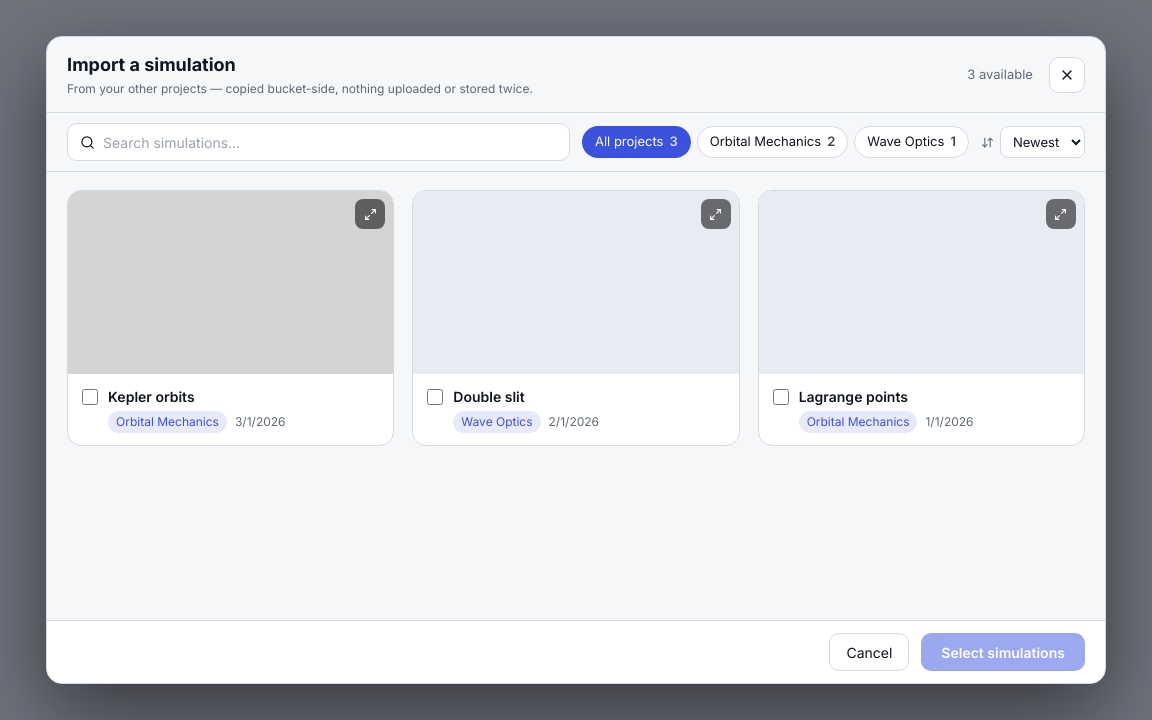
it: multi-select and import › a partial failure keeps the survivors selected, shows the error, and stays OPEN
Expected: the text "Kepler orbits" is shown, [108,388,195,405]
Step 1. Click the checkbox labelled "Kepler orbits Orbital Mechanics 3/1/2026" → x=90, y=397, box [82,389,98,405]
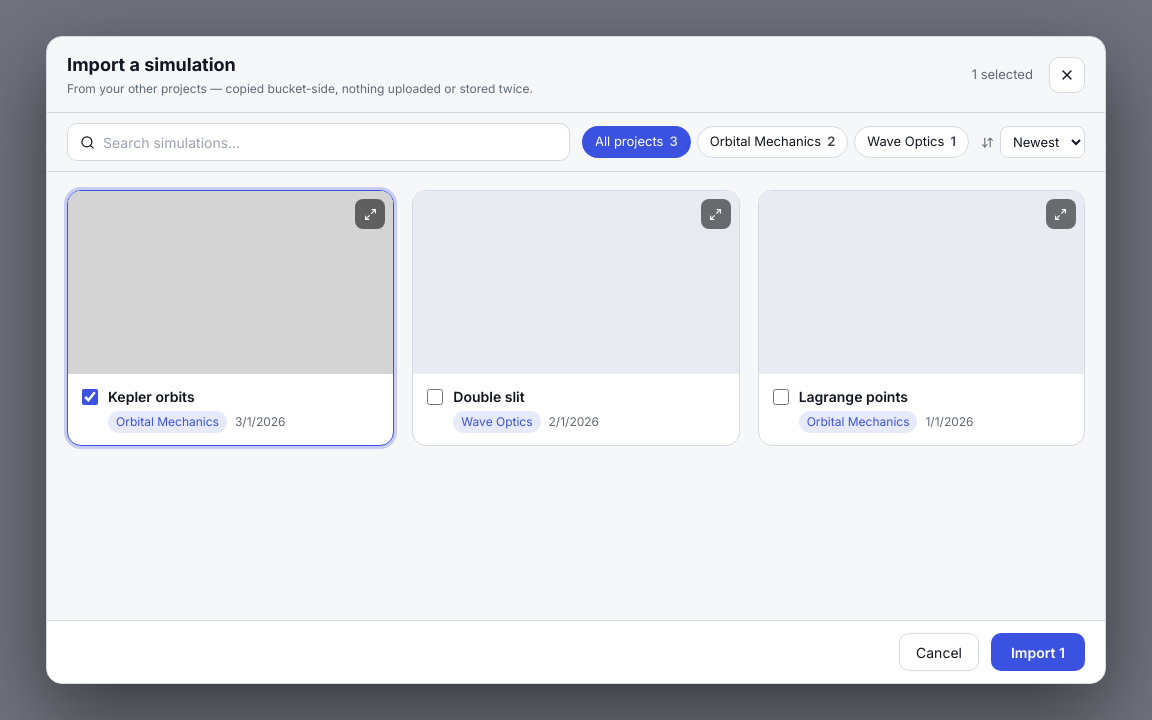
Step 2. Click the checkbox labelled "Double slit Wave Optics 2/1/2026" → x=435, y=397, box [427,389,443,405]
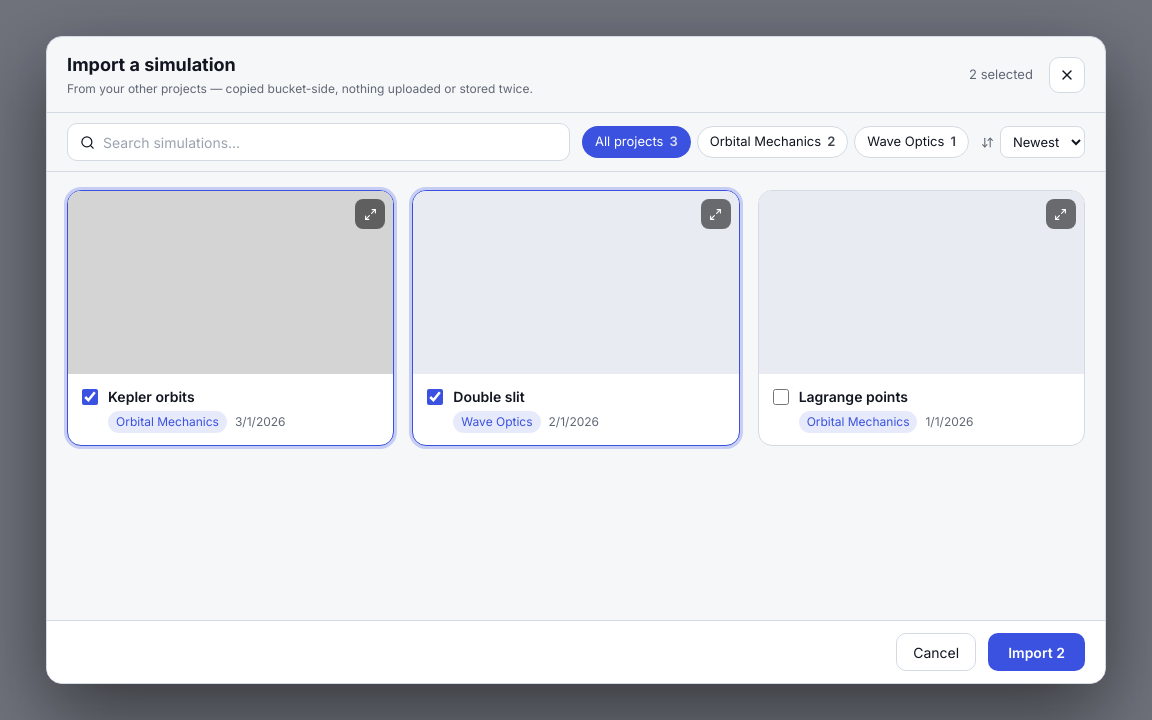
Step 3. Click the button "Import 2" → x=1037, y=652, box [988,633,1085,671]
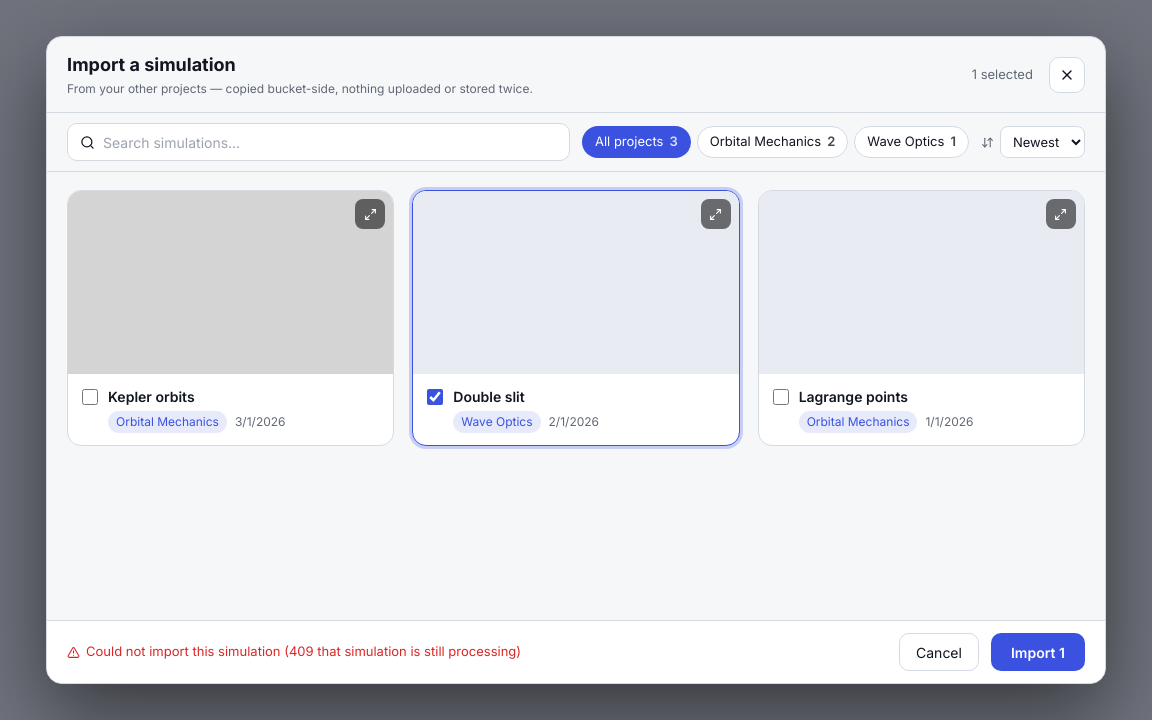
Expected: the checkbox labelled "Kepler orbits Orbital Mechanics 3/1/2026" is not checked, [82,389,98,405]
Expected: the checkbox labelled "Double slit Wave Optics 2/1/2026" is checked, [427,389,443,405]
Expected: the message "Could not import this simulation (409 that simulation is still processing)" is shown, [67,642,521,662]
